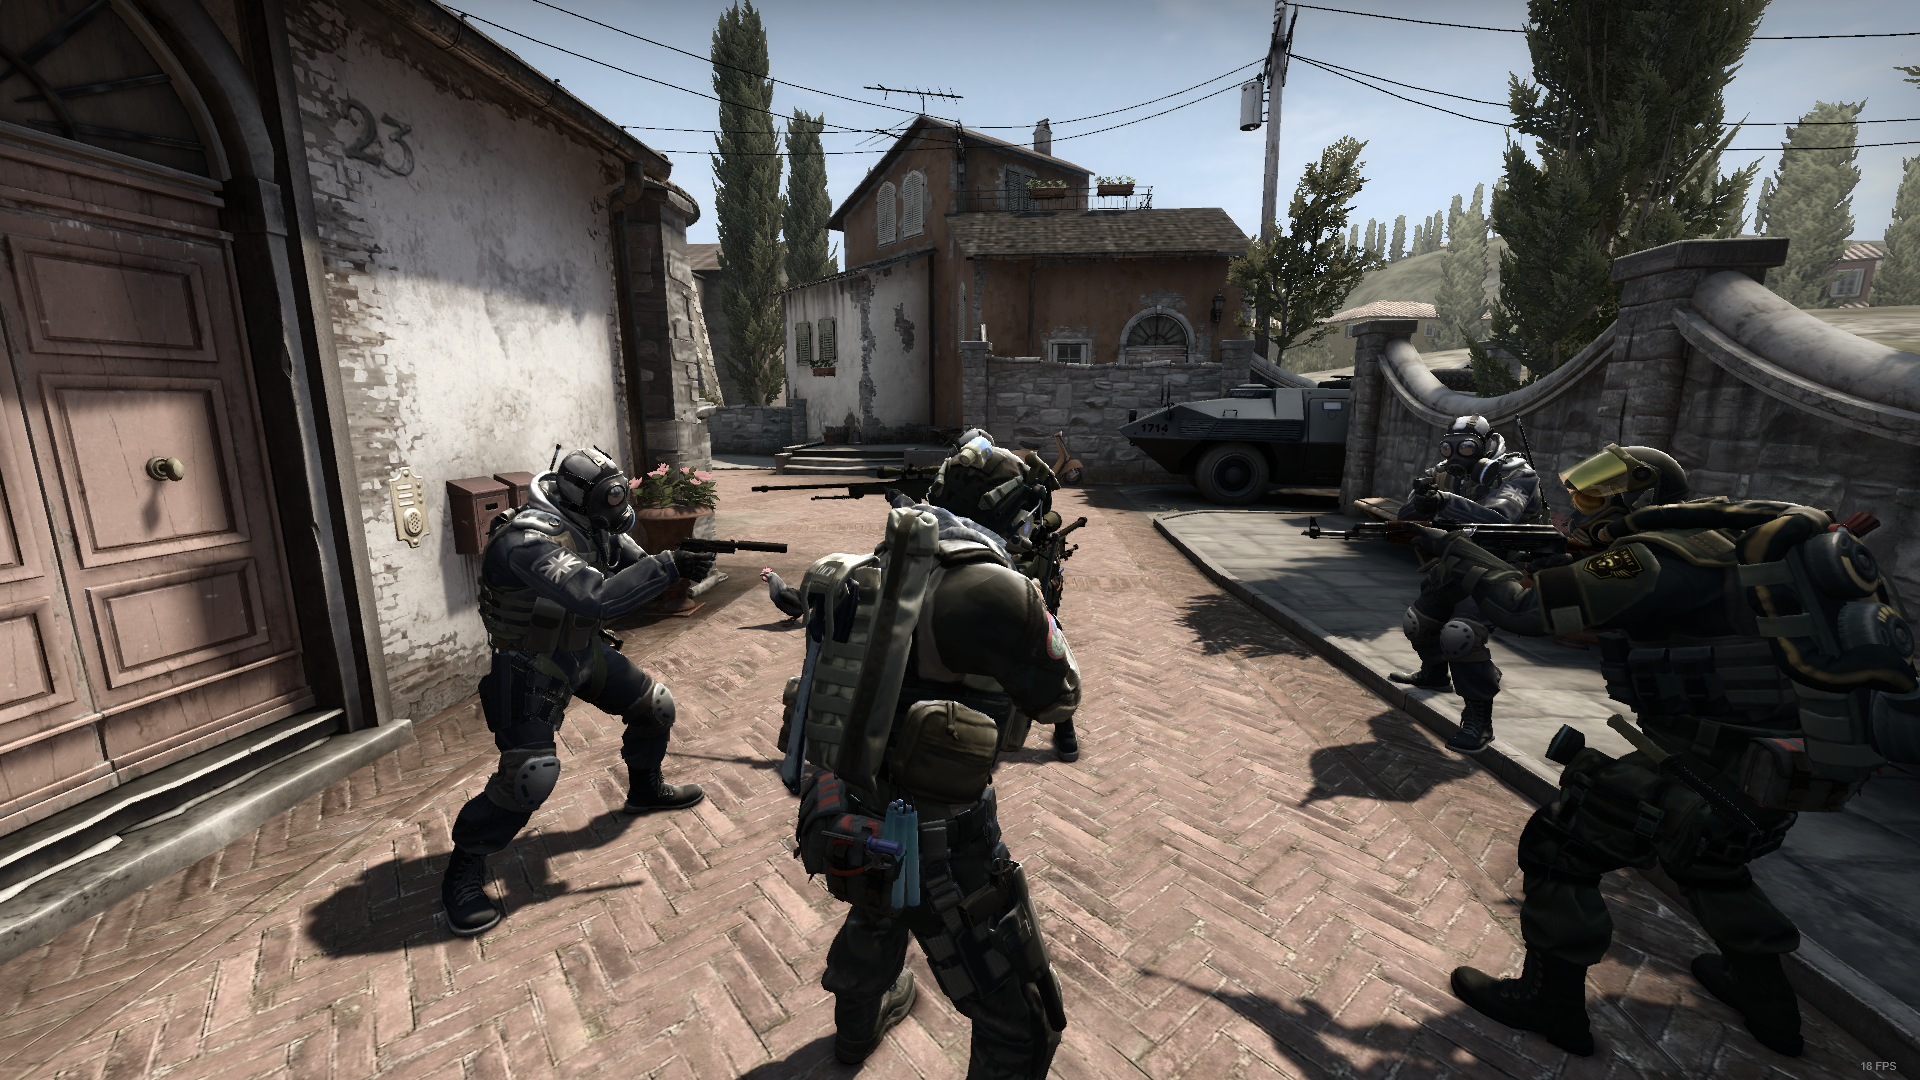ct: (440, 444, 705, 934)
